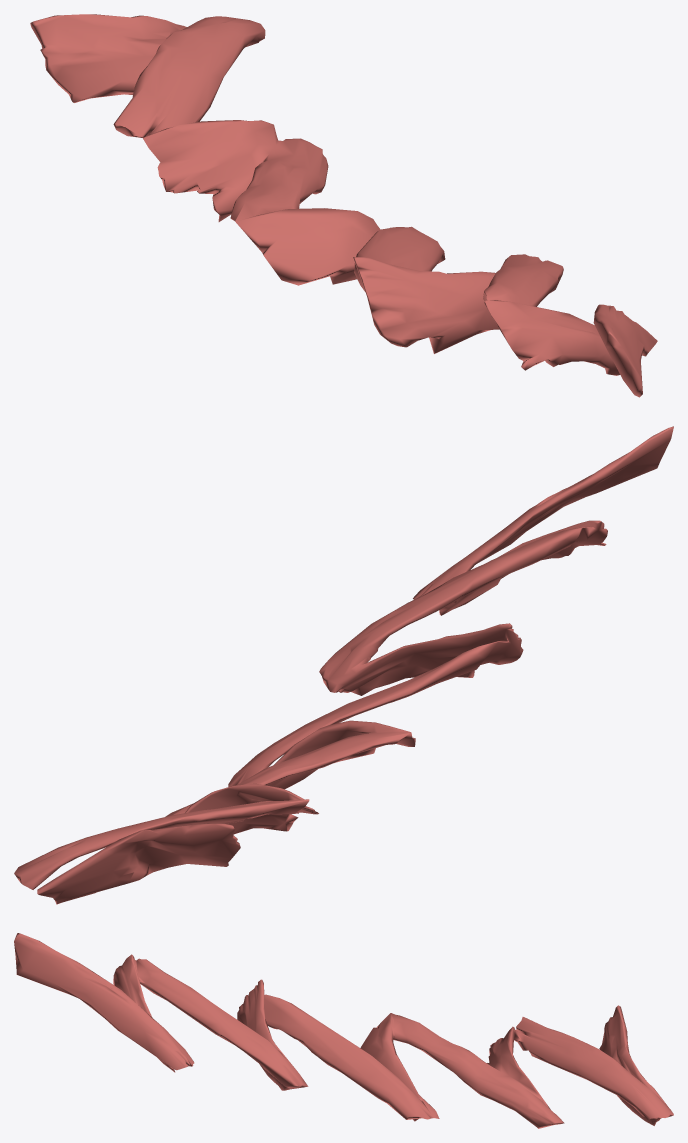
The picture shows the model from 3 angles, top to bottom: view 1: azimuth 30°, elevation 25°; view 2: azimuth 150°, elevation 25°; view 3: azimuth 270°, elevation 25°; orthographic projection. The views are drawn at different scales.
Parts seen in each view (by area): view 1: 左侧腰多裂肌; view 2: 左侧腰多裂肌; view 3: 左侧腰多裂肌.
Boxes of the visible parts, x1,y1,x2,y2 form: 左侧腰多裂肌: (30,14,657,397); 左侧腰多裂肌: (14,426,673,904); 左侧腰多裂肌: (14,933,673,1128).
Size of the model in its own units: 0.0628 by 0.0583 by 0.2379.
